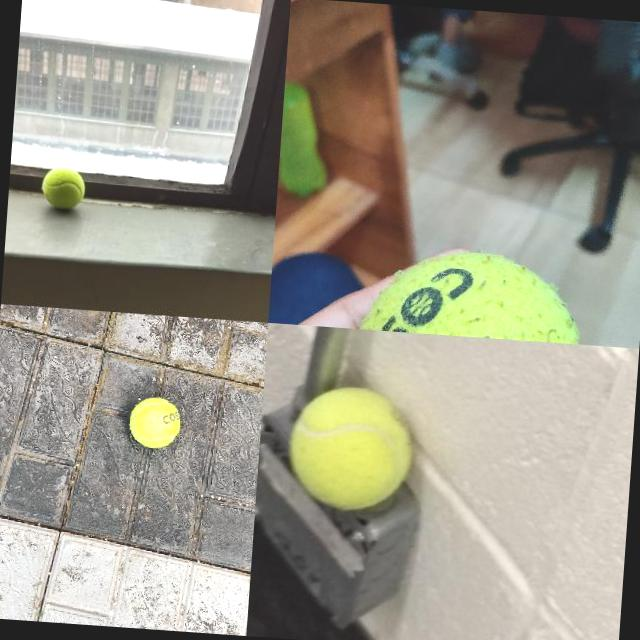Tennis Ball: (353, 242, 593, 344), (284, 382, 416, 516), (126, 394, 182, 449), (40, 166, 86, 212)
